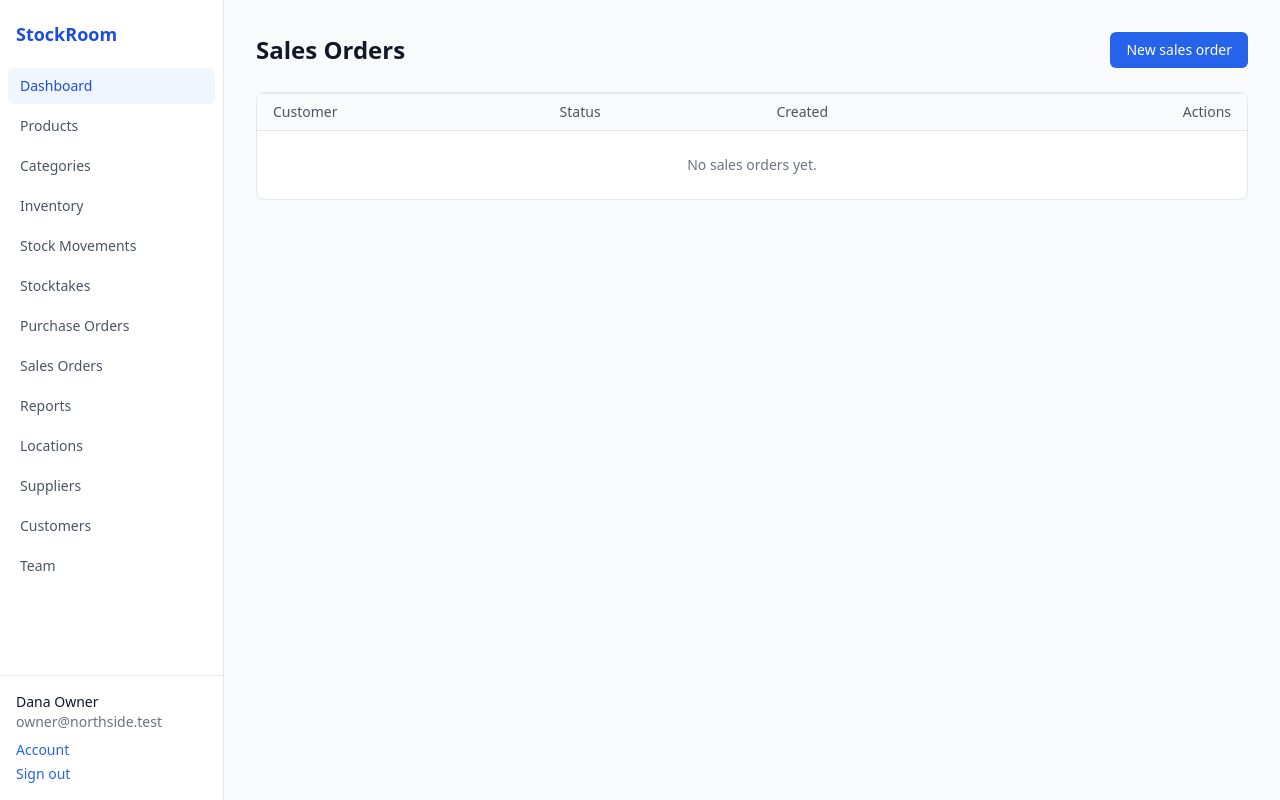
SalesOrdersPage create form › closes the form and resets its lines on success
expect the text "No sales orders yet." is shown: met, box [257, 130, 1247, 199]
Click the button "New sales order": x=1179, y=50 [1110, 32, 1248, 68]
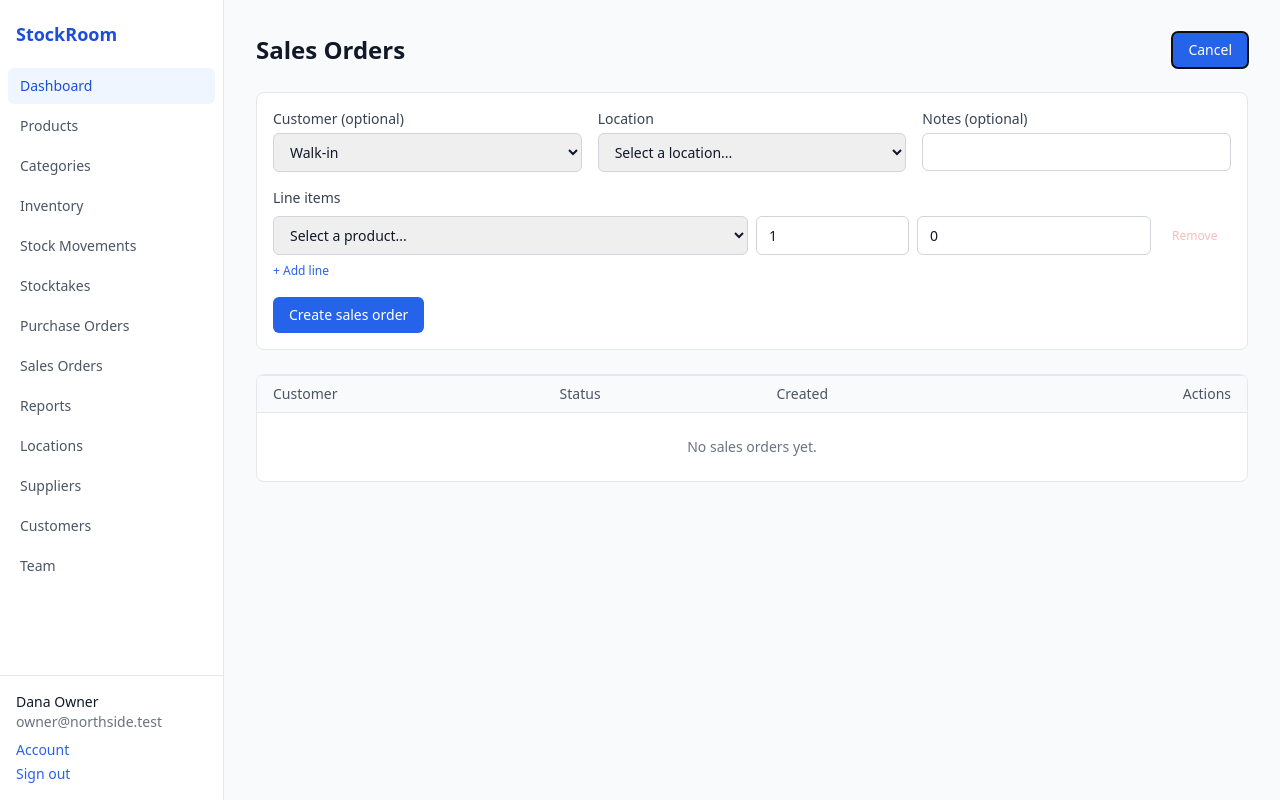
Select "Warehouse" in the dropdown labelled "Location": x=752, y=152 [598, 133, 906, 172]
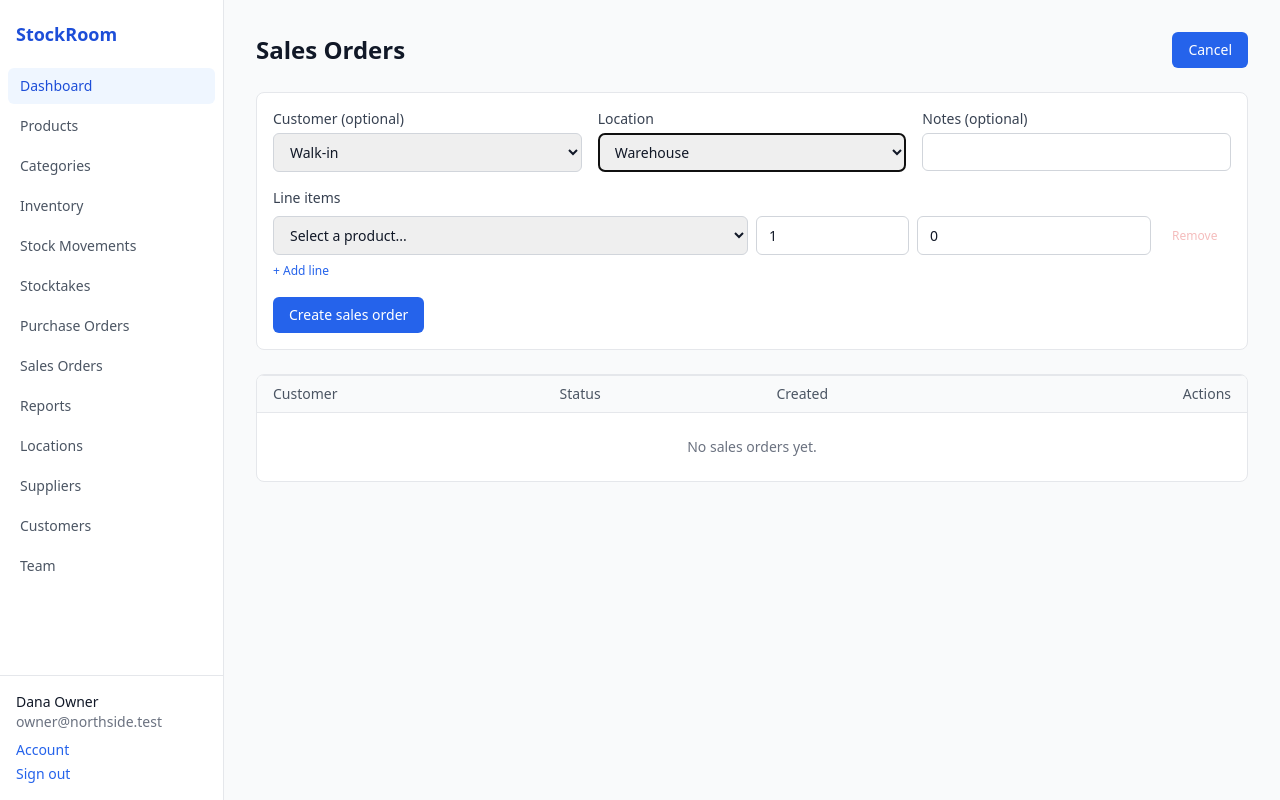
Select "Widget (WID-1)" in the 3rd dropdown: x=510, y=236 [273, 216, 748, 255]
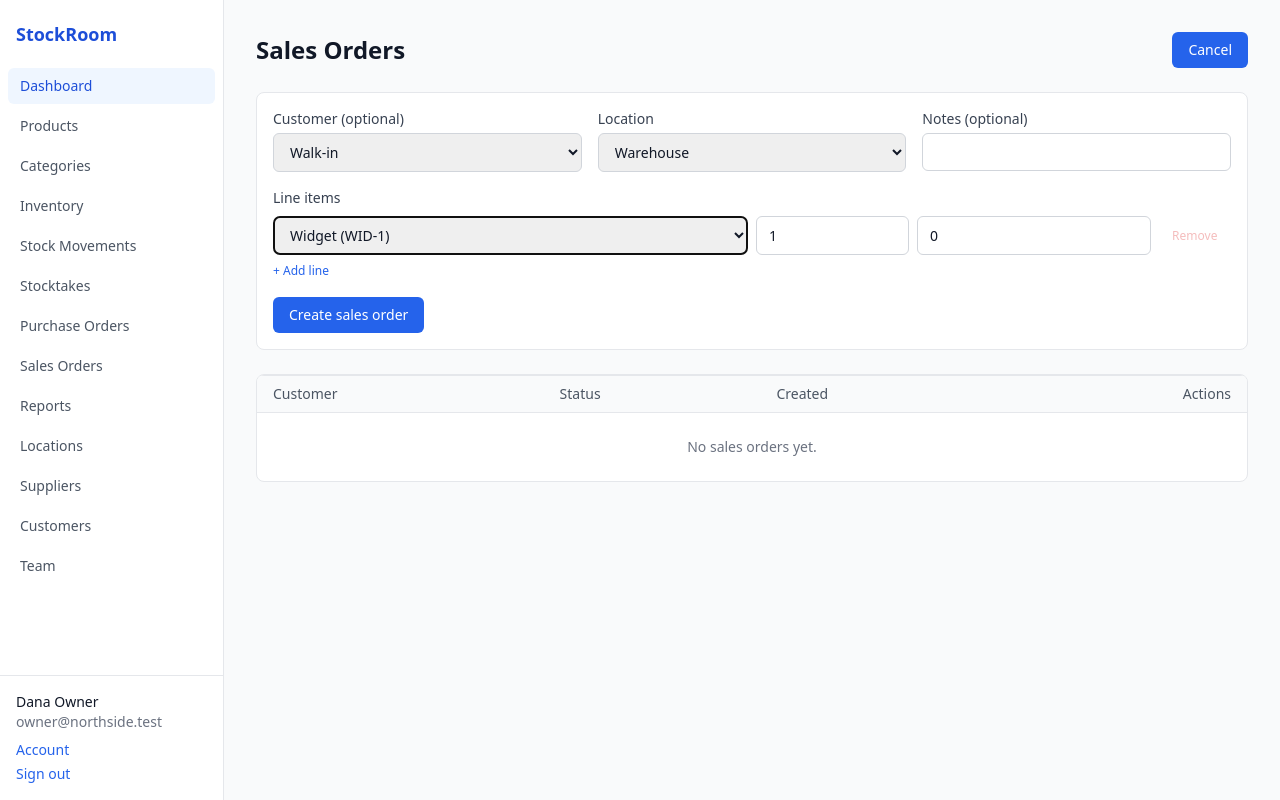
Click the button "Create sales order": x=349, y=315 [273, 297, 424, 333]
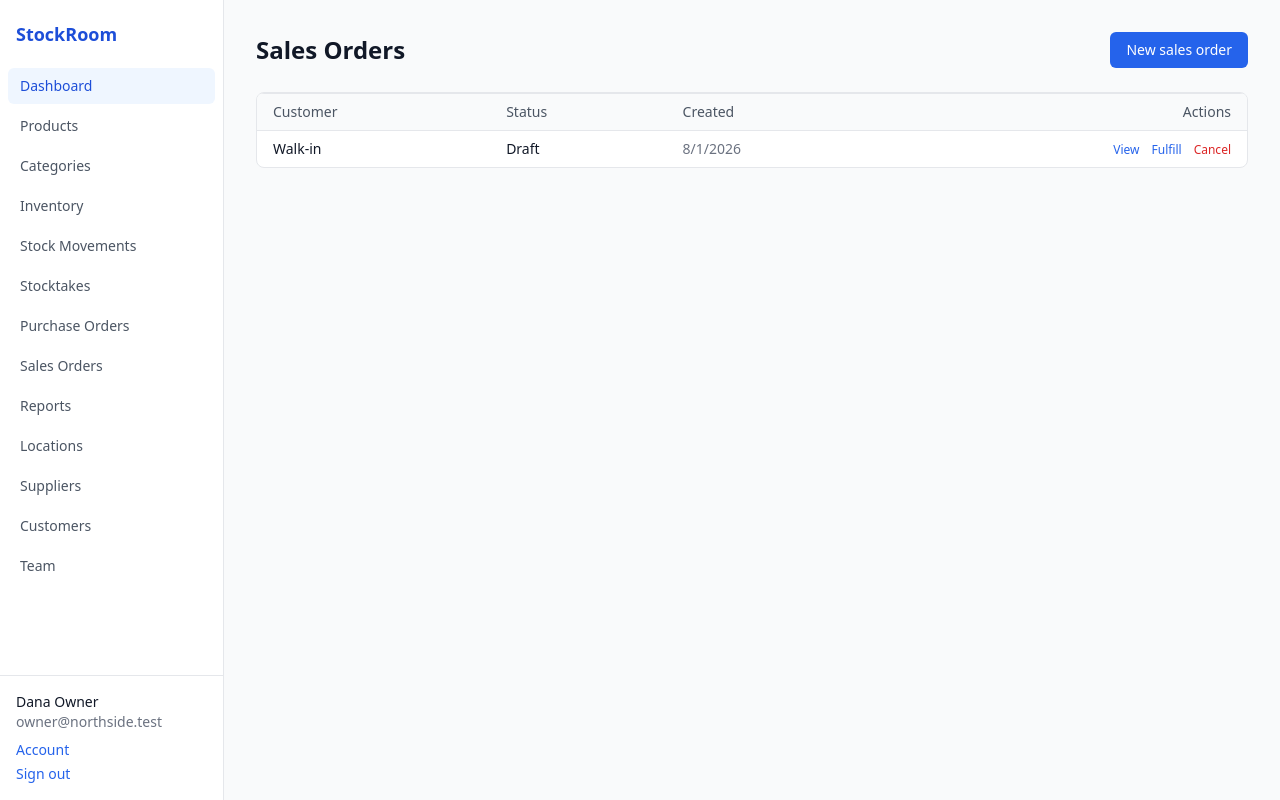
expect the text "Walk-in" is shown: met, box [257, 130, 490, 167]
